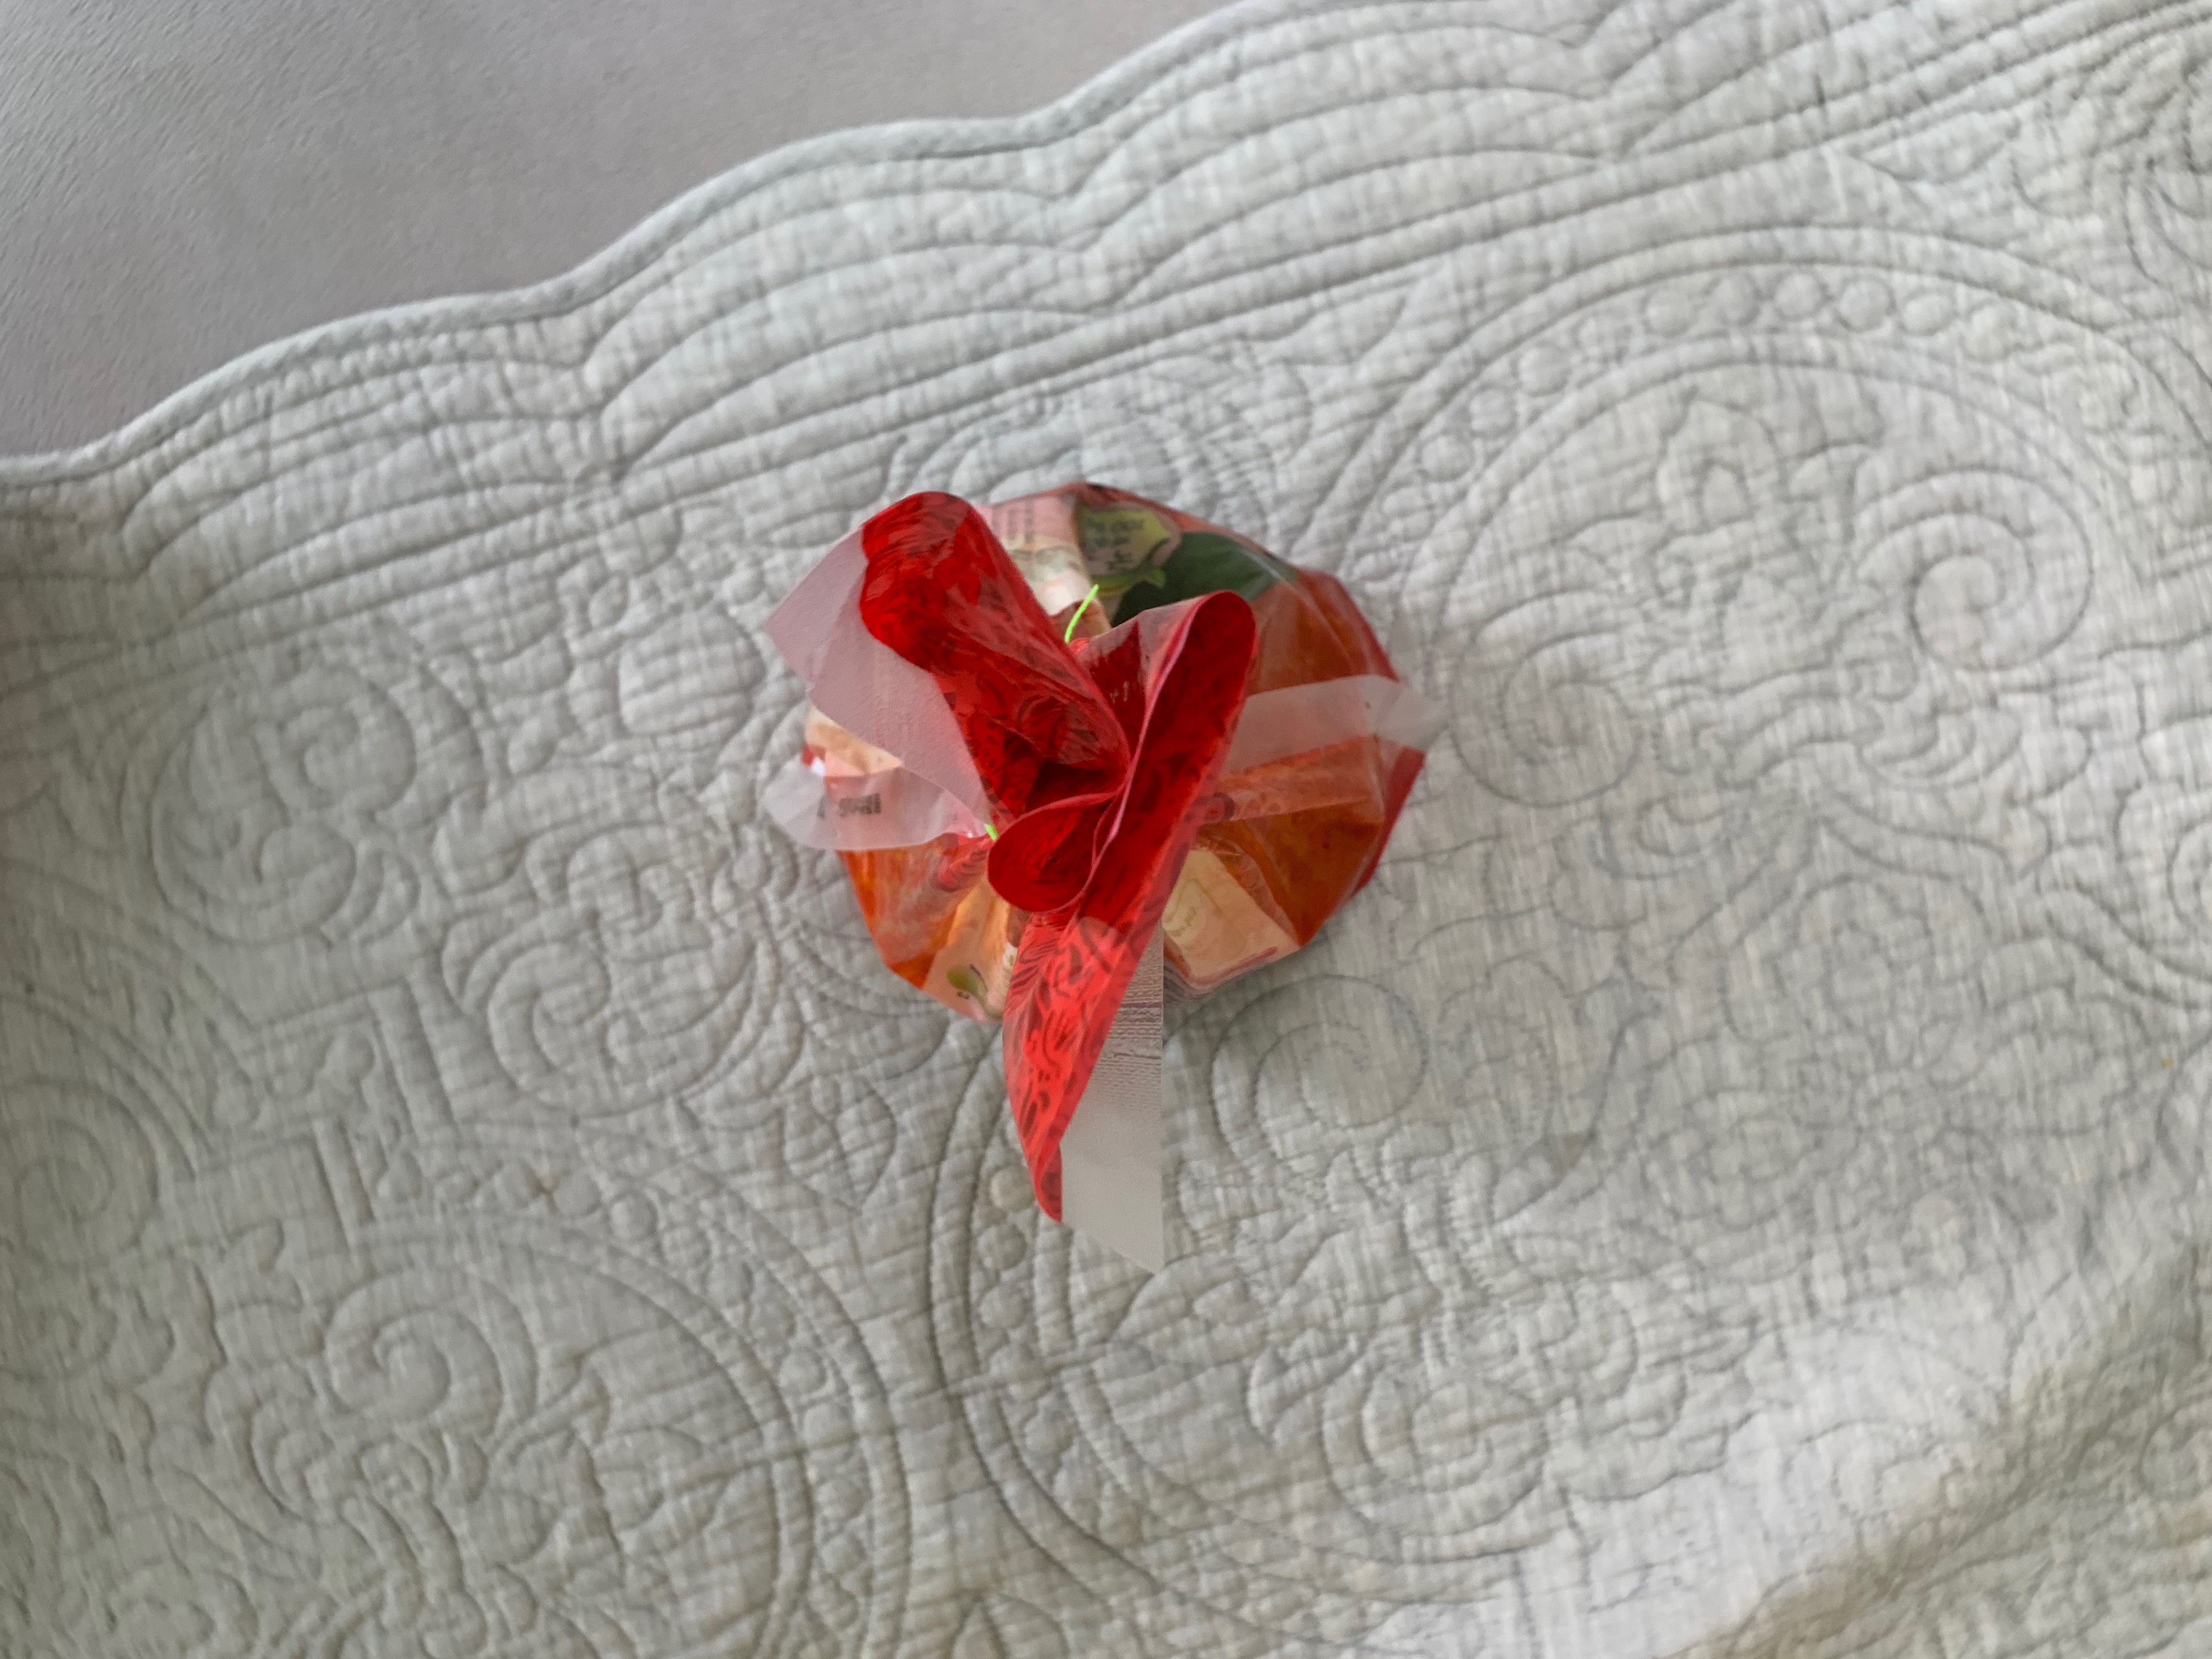kimchi: (805, 488, 1426, 1220)
